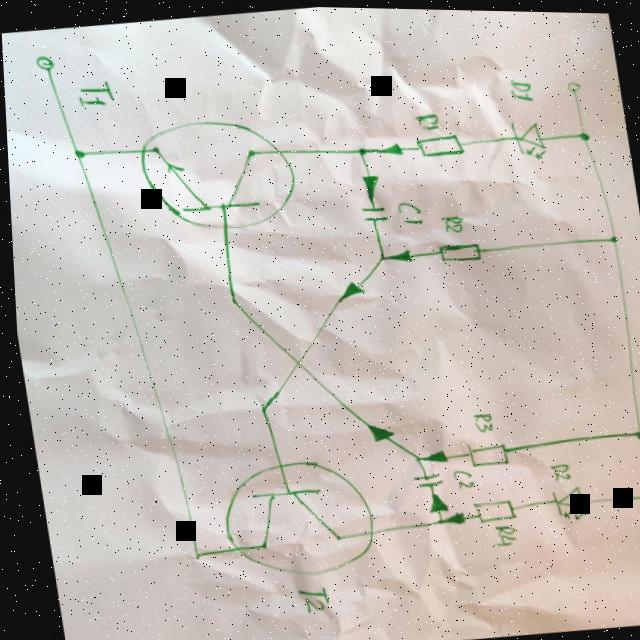capacitor: (356, 198, 389, 222), (407, 466, 441, 486)
crossover: (280, 347, 309, 370)
diode: (507, 112, 548, 158), (543, 479, 585, 520)
junction: (68, 142, 90, 161), (250, 396, 271, 414), (221, 290, 239, 307), (183, 545, 201, 559), (576, 124, 591, 138), (603, 228, 619, 241), (353, 141, 368, 154), (373, 248, 388, 261), (407, 449, 421, 461), (628, 424, 640, 436), (430, 513, 441, 522), (637, 485, 640, 497)
resistor: (413, 126, 466, 157), (464, 492, 513, 522), (460, 437, 506, 465), (433, 236, 482, 262)
terminal: (32, 50, 58, 73), (564, 74, 583, 91)
text: (74, 76, 117, 108), (290, 579, 326, 612), (393, 194, 423, 224), (506, 71, 536, 101), (410, 106, 441, 131), (485, 519, 514, 545), (468, 407, 493, 431), (438, 209, 464, 231), (448, 463, 472, 486), (544, 457, 568, 478)
transistor: (205, 447, 383, 585), (120, 107, 302, 239)
